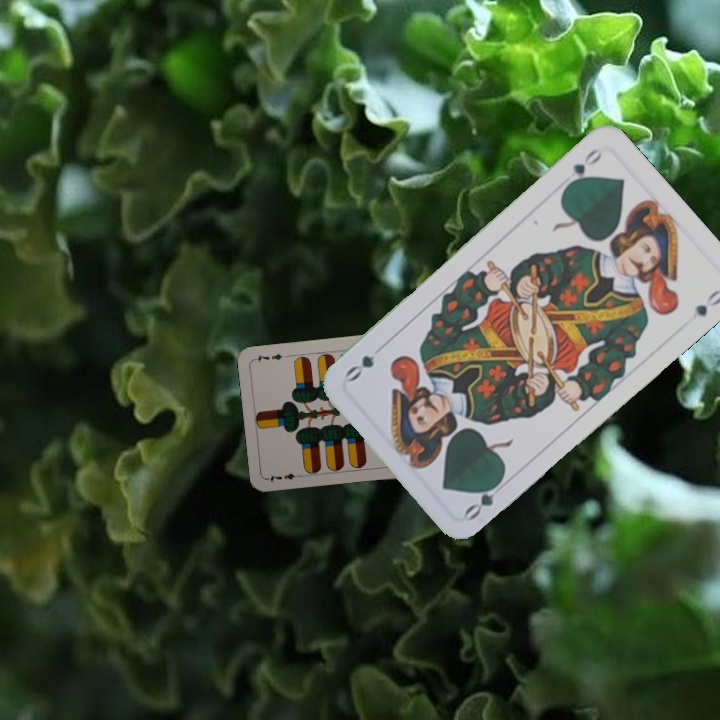E7: (264, 469, 305, 485)
GO: (460, 473, 506, 523), (561, 144, 605, 192)
